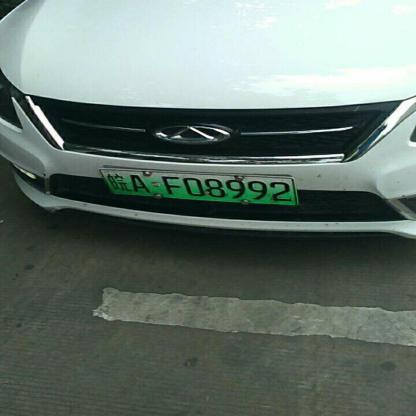lp: (100, 168, 296, 203)
